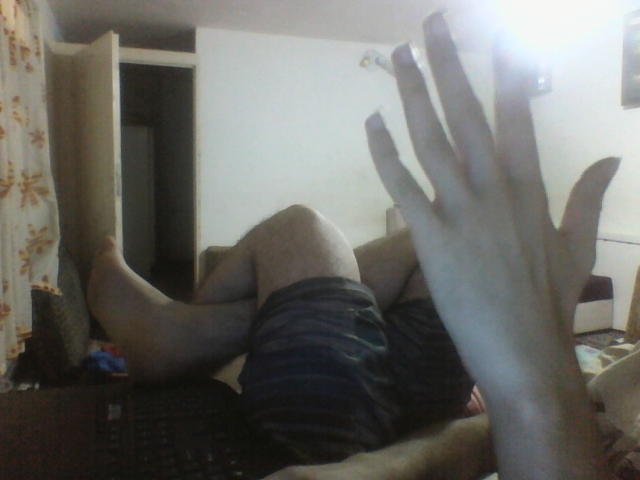taslim: (364, 5, 632, 402)
